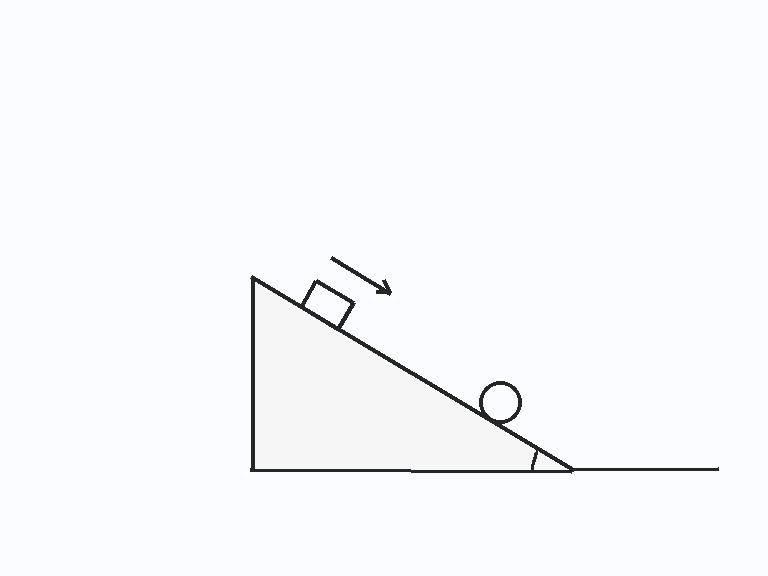ball: (477, 379, 523, 425)
block: (299, 279, 354, 331)
ramp: (249, 275, 574, 472)
